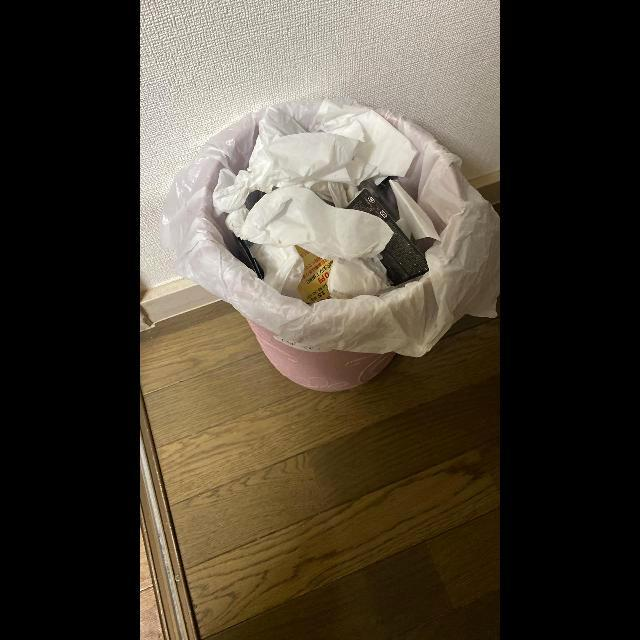cardboard: (347, 188, 429, 286), (295, 245, 333, 304)
paper: (212, 98, 418, 216), (225, 186, 394, 300), (389, 180, 441, 242), (249, 244, 304, 300)
